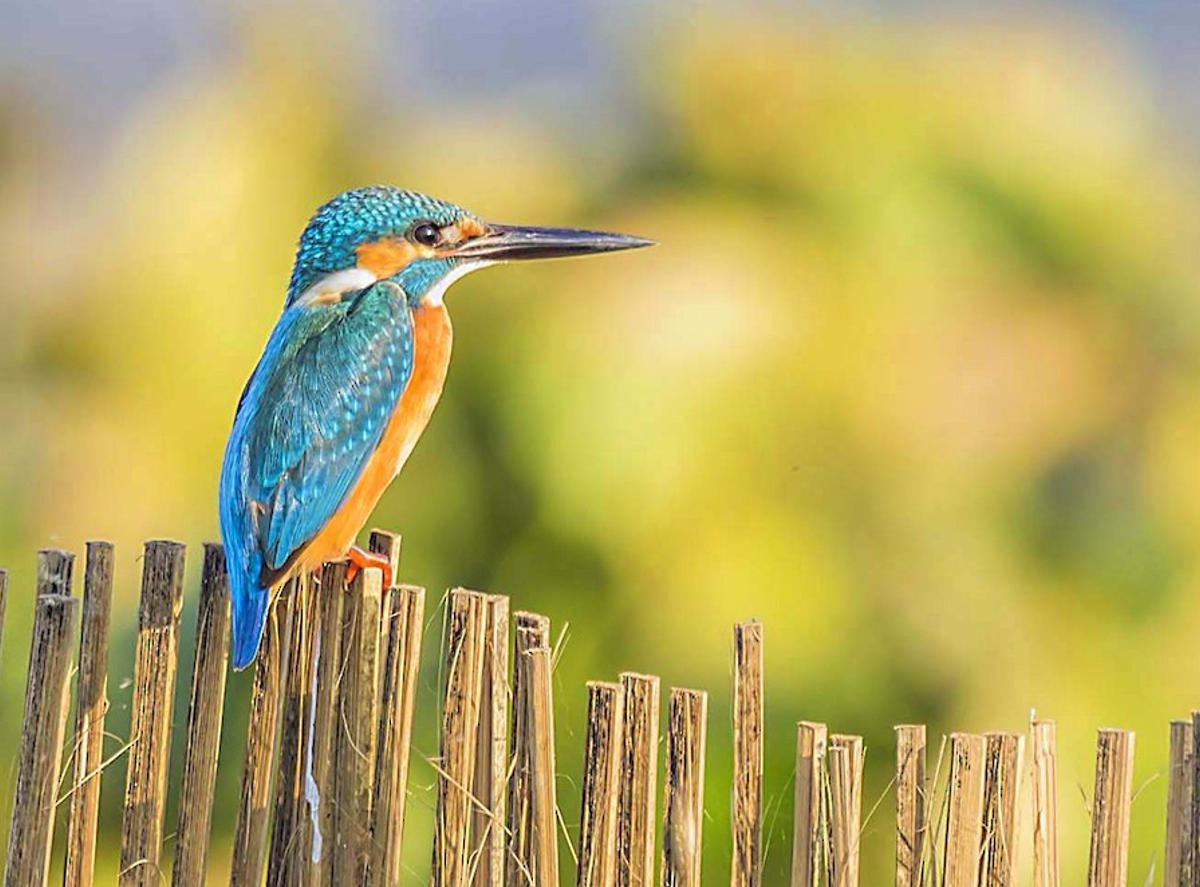kingfisher: (153, 172, 664, 653)
